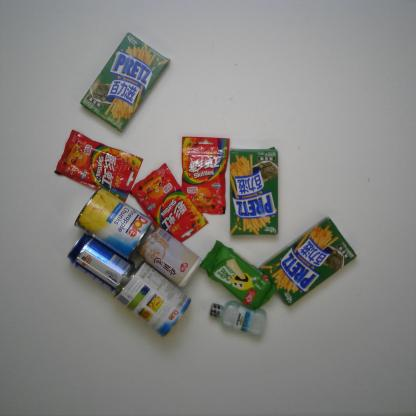Alcohol: (66, 232, 135, 296)
Candy: (53, 128, 144, 204), (129, 162, 209, 245), (179, 134, 230, 216)
Canned Food: (113, 258, 192, 338), (73, 186, 153, 261), (136, 224, 202, 290)
Dessert: (80, 31, 171, 134), (258, 216, 358, 307), (199, 239, 278, 312), (228, 146, 280, 237)
Personal Hygiene: (208, 299, 267, 337)
